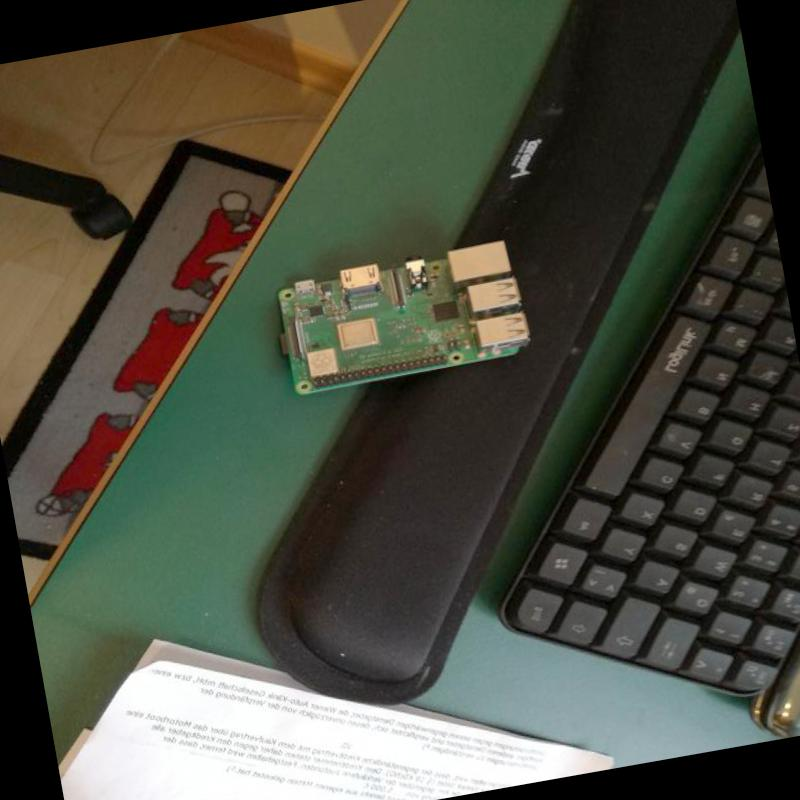Raspberry_Pi_3: (266, 228, 541, 410)
